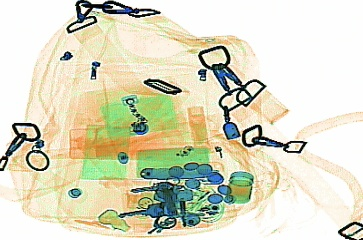glassbottle: (225, 170, 253, 204), (97, 208, 129, 231)
yszhediedao: (139, 161, 223, 182)
